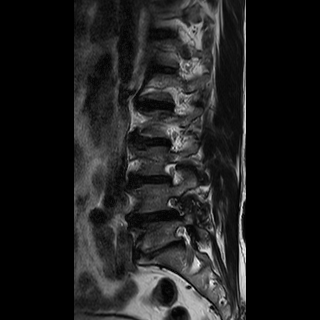RFS1: (162, 191, 187, 222)
